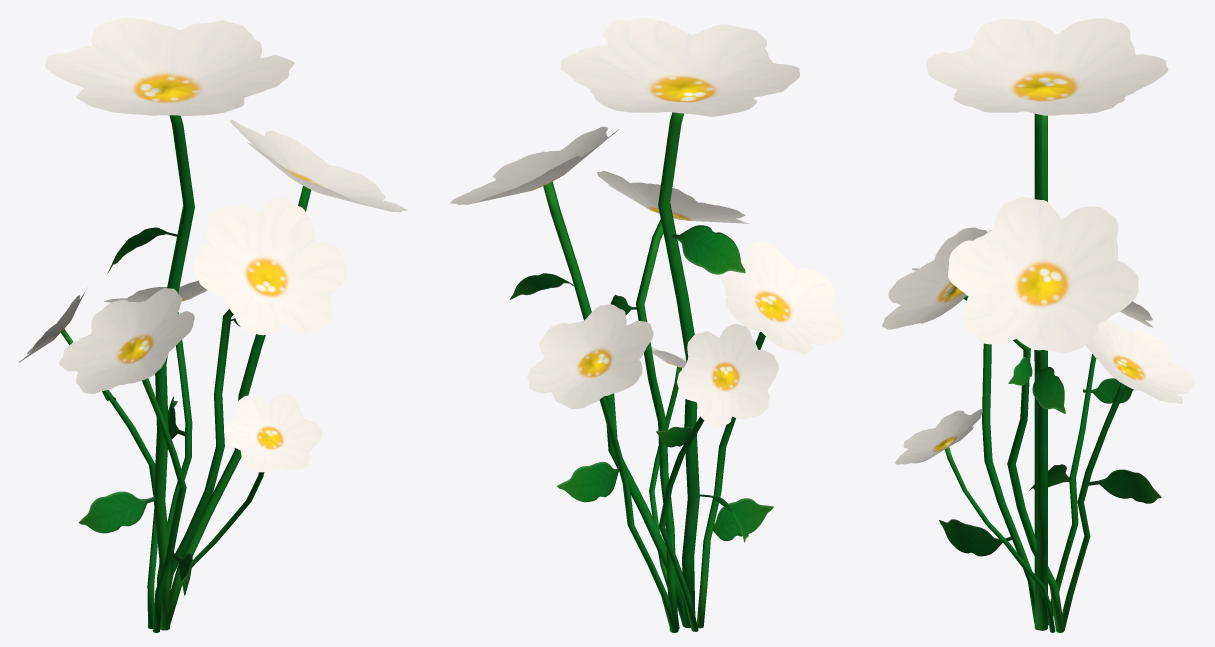
Rendered from daisy.fbx.
3 renders of one model, left to right at view 1: azimuth 30°, elevation 25°; view 2: azimuth 150°, elevation 25°; view 3: azimuth 270°, elevation 25°, orthographic.
Parts seen in each view (by area): view 1: Plane.023; view 2: Plane.023; view 3: Plane.023.
Part boxes in pixels (x1,y1,x2,y2): Plane.023: (19, 17, 407, 632); Plane.023: (450, 18, 845, 632); Plane.023: (882, 18, 1194, 632).
Bounding box in the file's own units: 19.9 × 30.27 × 15.5.
